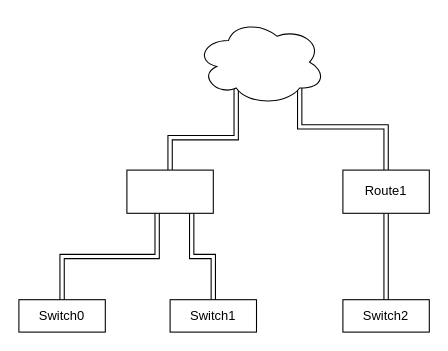
This 448x351 diagram has some shape labels left out. The box of each missing label's shape, as (x1, y1, x2, y2) in pixels:
LAN007: (195, 18, 326, 105)
Route0: (126, 169, 213, 213)
